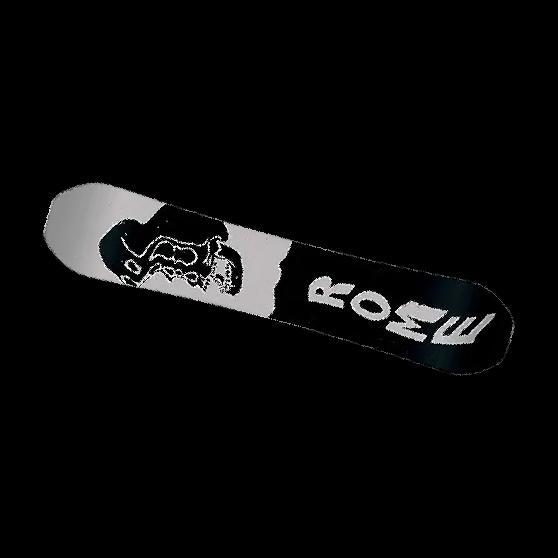Snowboard: (42, 180, 515, 377)
